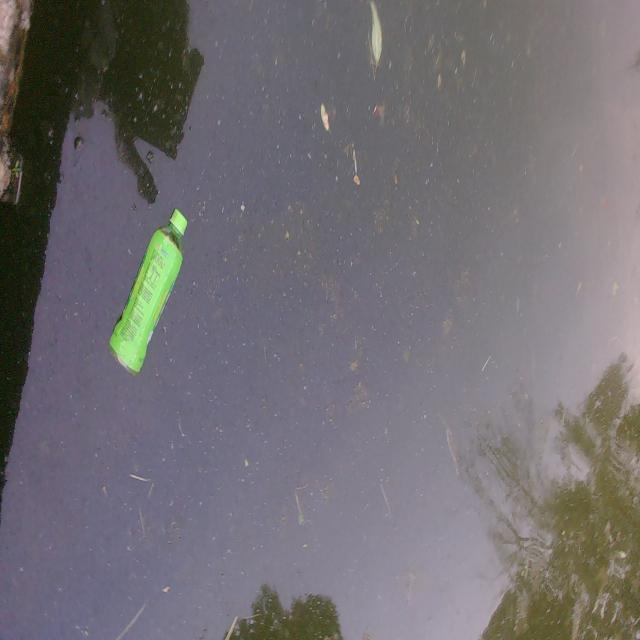Bottle: (104, 204, 190, 373)
